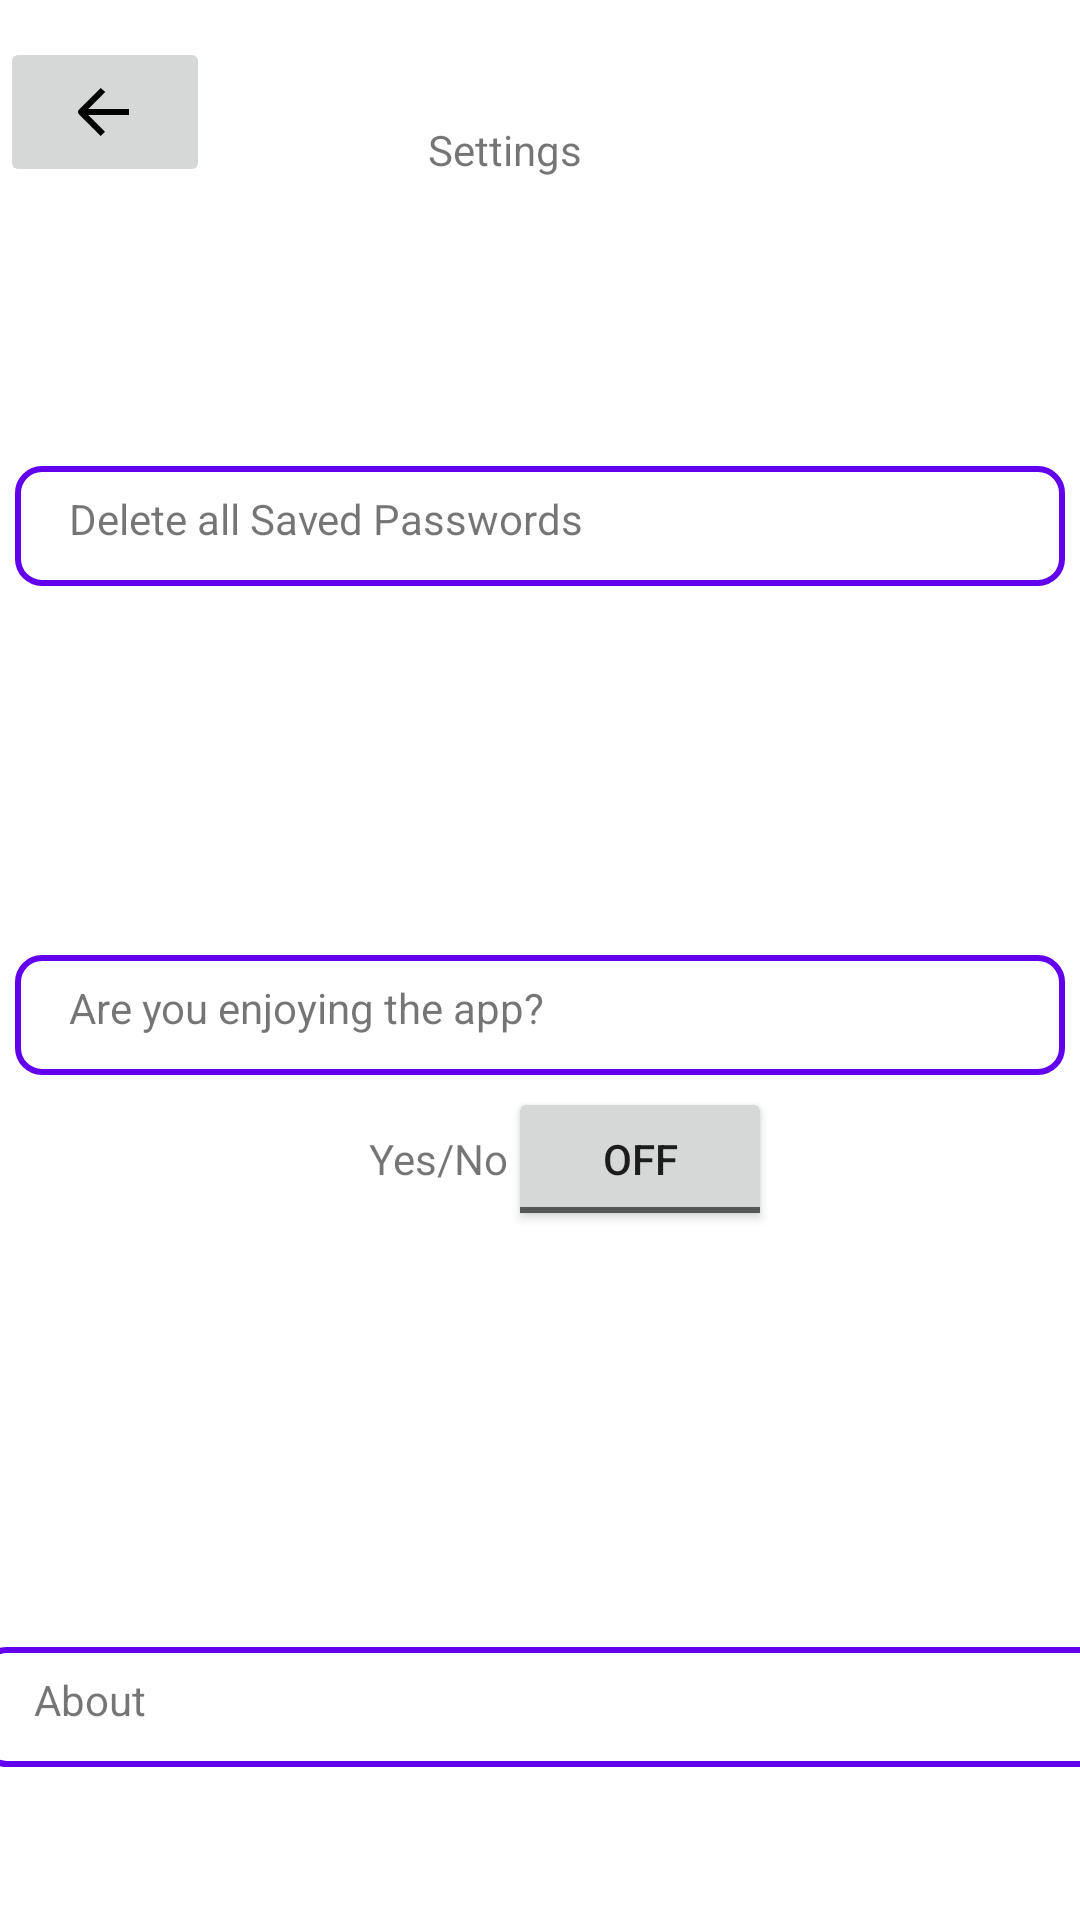

Icon bounding boxes for this 1080×1920 phone screenshot, format (x1, y1, x2, y2):
back: (12, 55, 198, 169)
